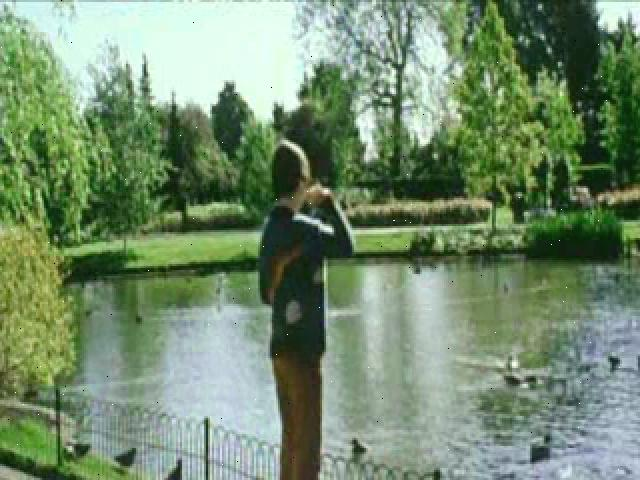T: (248, 131, 370, 480)
